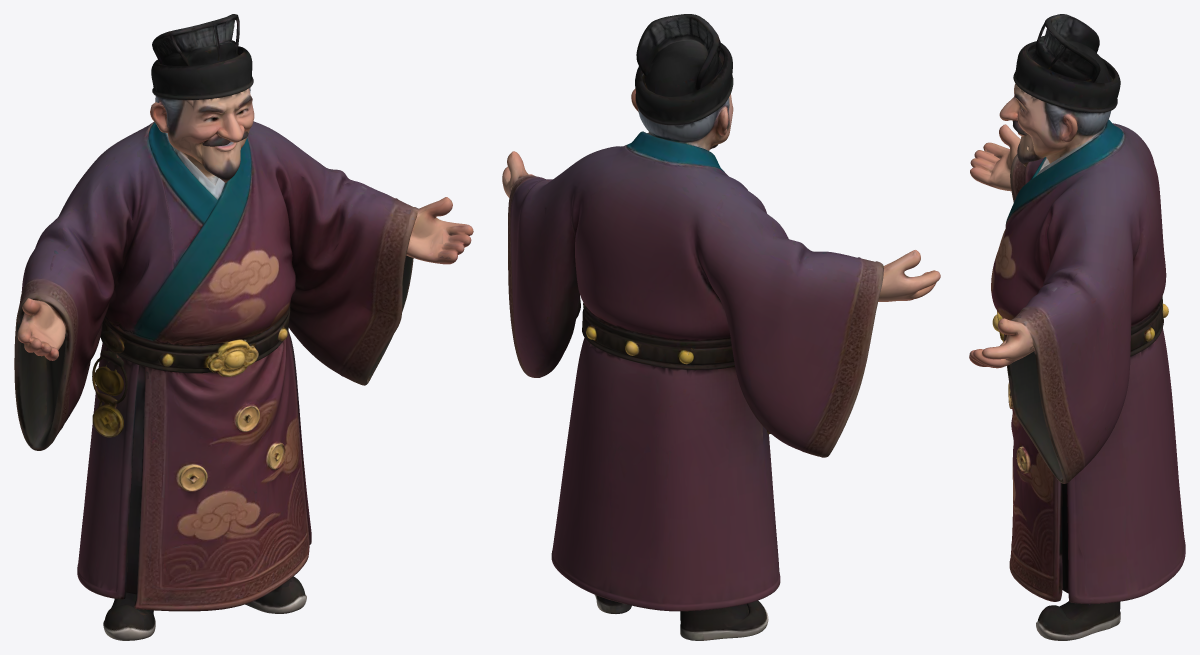
Rendered from miser.glb.
The picture shows the model from 3 angles, left to right: view 1: azimuth 30°, elevation 25°; view 2: azimuth 150°, elevation 25°; view 3: azimuth 270°, elevation 25°; orthographic projection. The views are drawn at different scales.
Parts seen in each view (by area): view 1: node_0; view 2: node_0; view 3: node_0.
Part boxes in pixels (left/top/right/bottom): node_0: left=14, top=14, right=473, bottom=640; node_0: left=502, top=14, right=940, bottom=640; node_0: left=969, top=14, right=1185, bottom=640.
Size of the model in its own units: 0.8907 by 1.14 by 0.389.
Materials: 1 (1 with a texture image).
